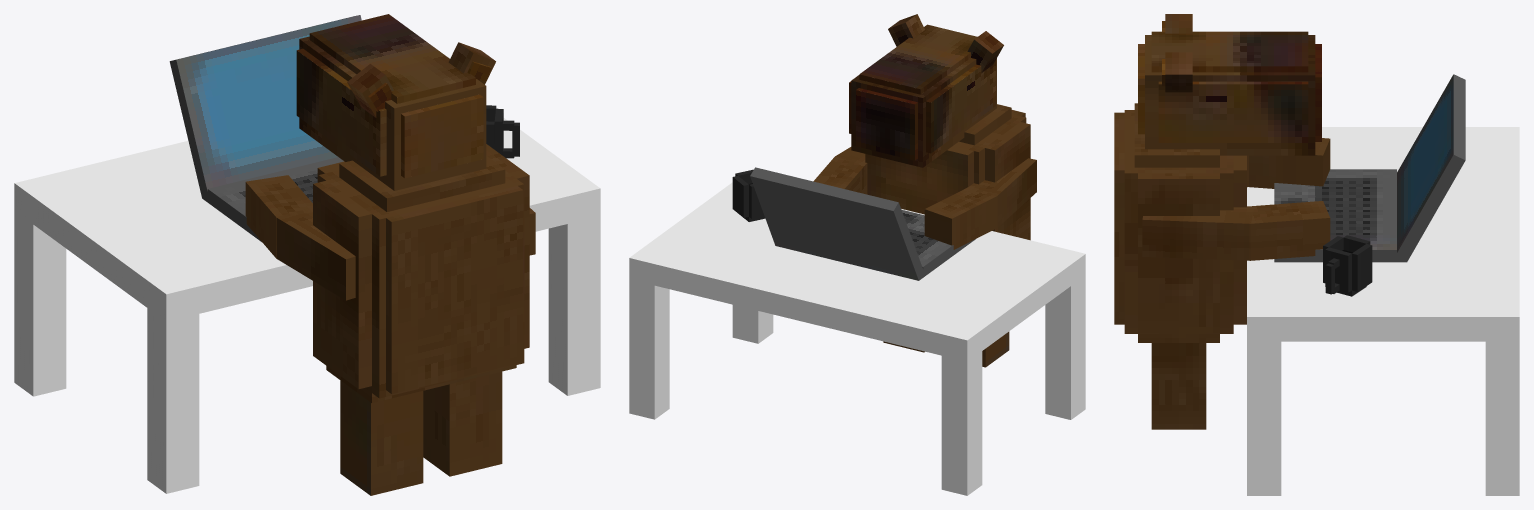
File: Carpincho3D-transformed.glb
3 views of the same model, side by side, from view 1: azimuth 30°, elevation 25°; view 2: azimuth 150°, elevation 25°; view 3: azimuth 270°, elevation 25° (orthographic). The views are drawn at different scales.
Parts seen in each view (by area): view 1: cube (×22); view 2: cube (×22); view 3: cube (×24).
Part boxes in pixels (left/top/right/bottom): cube (×22): left=14, top=14, right=600, bottom=495; cube (×22): left=629, top=14, right=1085, bottom=495; cube (×24): left=1114, top=14, right=1519, bottom=495.
Size of the model in its own units: 2.06 by 1.86 by 1.86.
Materials: 9 (9 with a texture image).
